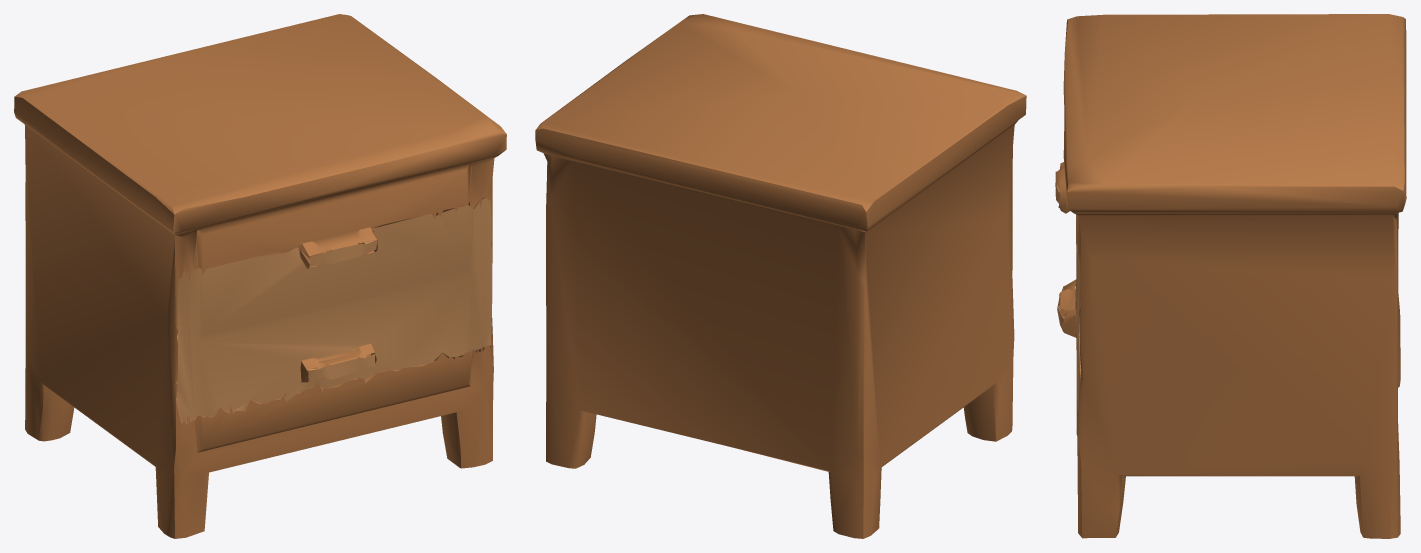
The model's file is nightstand.glb.
3 views of the same model, side by side, from view 1: azimuth 30°, elevation 25°; view 2: azimuth 150°, elevation 25°; view 3: azimuth 270°, elevation 25° (orthographic). The views are drawn at different scales.
Visible parts, largest first — view 1: nightstand_wood, nightstand_drawer; view 2: nightstand_wood; view 3: nightstand_wood, nightstand_drawer.
Boxes of the visible parts, bbox=[...] form: nightstand_wood: bbox=[14, 14, 506, 538]; nightstand_drawer: bbox=[176, 198, 492, 423]; nightstand_wood: bbox=[535, 14, 1026, 538]; nightstand_wood: bbox=[1056, 14, 1406, 538]; nightstand_drawer: bbox=[1055, 169, 1080, 410].
Size of the model in its own units: 0.5994 by 0.5788 by 0.5164.
